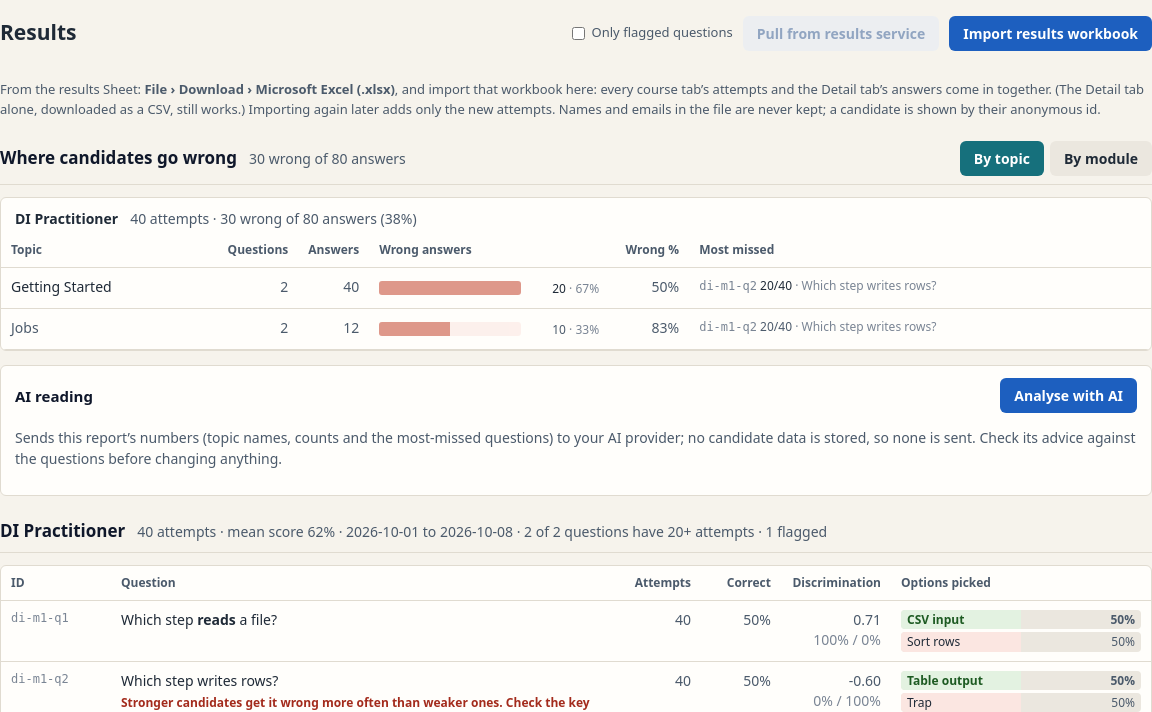
Test: ResultsPane › Only flagged questions hides the ones with nothing to say
The width and height of the screenshot is (1152, 712).
Expected: the heading "DI Practitioner" is shown, top-left (0, 518), bottom-right (125, 544)
Click the checkbox labelled "Only flagged questions" at (578, 33), box top-left (572, 27), bottom-right (585, 40)
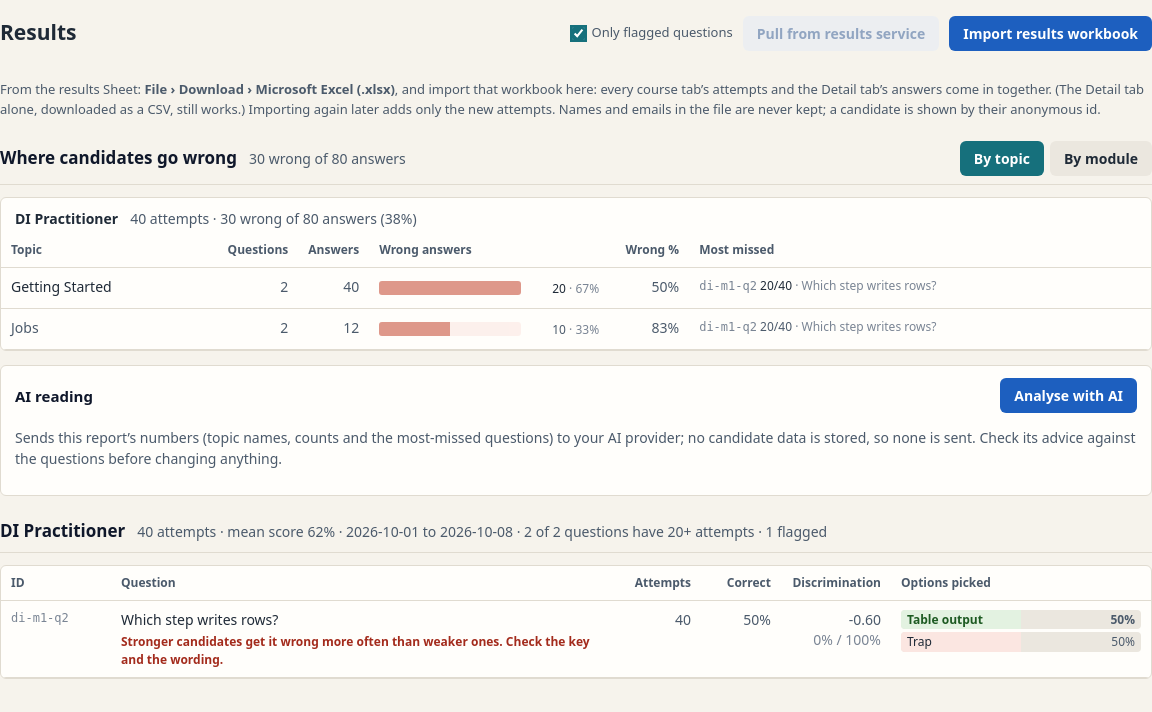
Expected: the text "di-m1-q2" in the row of "Getting Started" is shown, top-left (699, 279), bottom-right (757, 293)
Expected: the text "di-m1-q1" is gone
